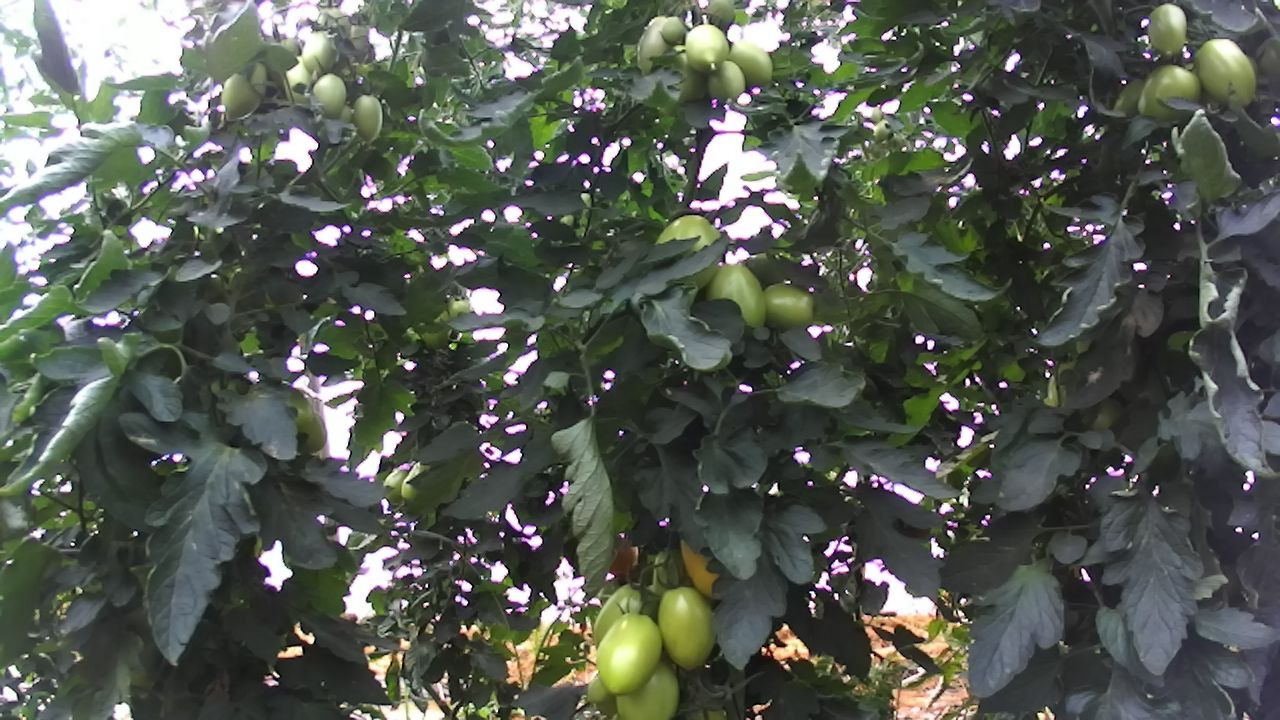tomato: (652, 207, 729, 298), (593, 608, 666, 698), (655, 583, 720, 674), (699, 259, 771, 335), (606, 654, 684, 720), (1191, 35, 1256, 114), (1134, 61, 1202, 122), (759, 280, 818, 332), (219, 61, 268, 121), (680, 21, 732, 76), (1146, 0, 1191, 59), (723, 38, 775, 89), (296, 24, 339, 79), (705, 56, 746, 104), (349, 91, 384, 145), (310, 69, 347, 118), (655, 13, 687, 46)
